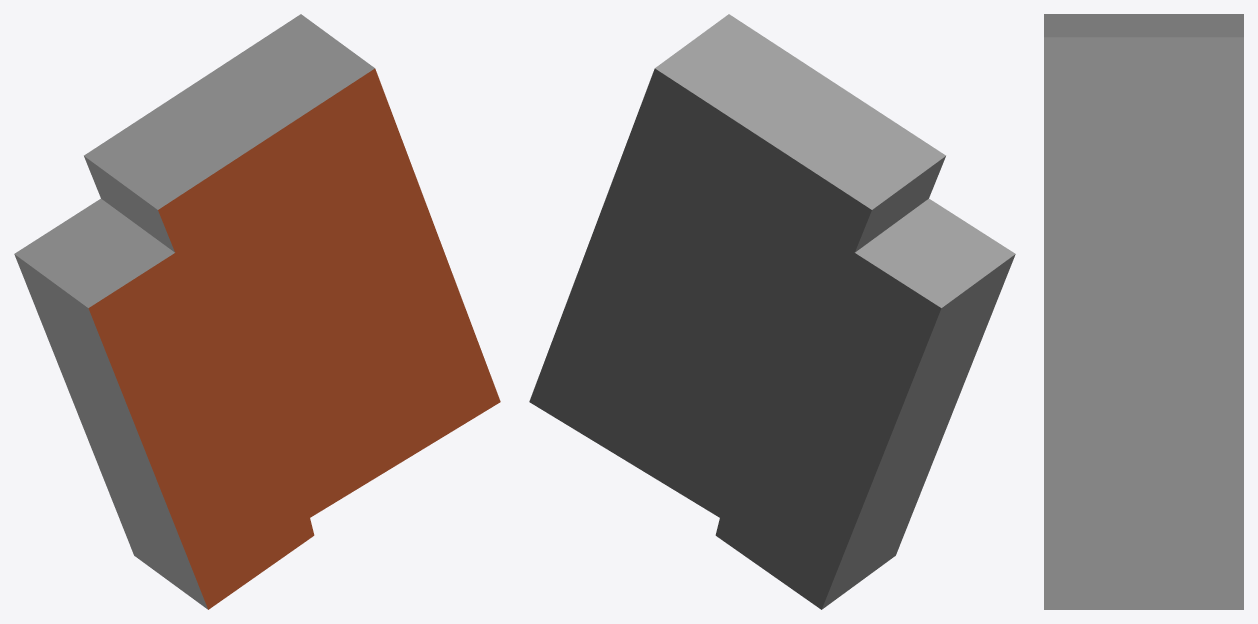
Rendered from construction_5683_assumed_A_Casa_h6m.obj.
3 renders of one model, left to right at view 1: azimuth 30°, elevation 25°; view 2: azimuth 150°, elevation 25°; view 3: azimuth 270°, elevation 25°, orthographic. The views are drawn at different scales.
Visible parts, largest first — view 1: construction_5683_assumed_A_Casa; view 2: construction_5683_assumed_A_Casa; view 3: construction_5683_assumed_A_Casa.
Part boxes in pixels (x1,y1,x2,y2): construction_5683_assumed_A_Casa: (14, 14, 500, 609); construction_5683_assumed_A_Casa: (529, 14, 1015, 609); construction_5683_assumed_A_Casa: (1044, 14, 1243, 609).
Size of the model in its own units: 19.24 by 22.34 by 6.
